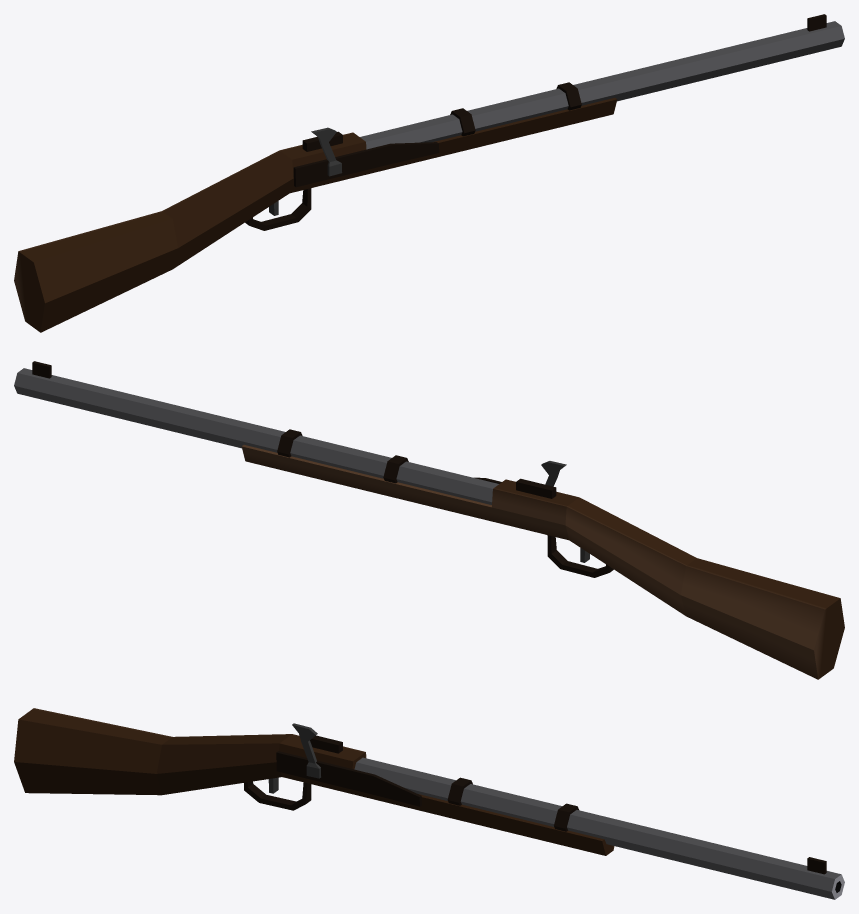
The model's file is Shotgun 1.glb.
3 views of the same model, one above another, from view 1: azimuth 30°, elevation 25°; view 2: azimuth 150°, elevation 25°; view 3: azimuth 330°, elevation 25° (orthographic).
Parts seen in each view (by area): view 1: Shotgun1; view 2: Shotgun1; view 3: Shotgun1.
Boxes of the visible parts, x1,y1,x2,y2 form: Shotgun1: [14, 14, 844, 332]; Shotgun1: [14, 361, 844, 679]; Shotgun1: [14, 708, 844, 899].
Size of what is drawn, in the model's own units: 1.56 by 0.2494 by 0.1031.
1 material, 1 textured.
